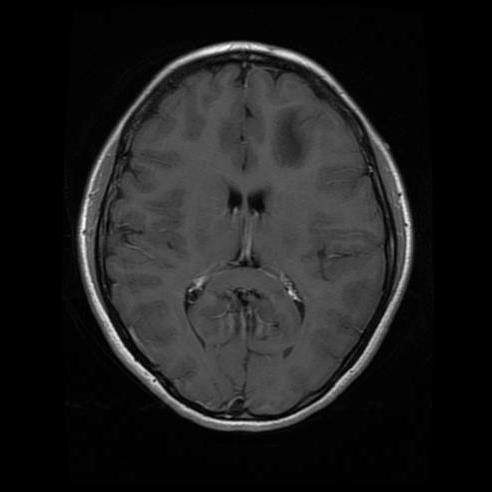Tumour-Glioma: (260, 102, 316, 184)
